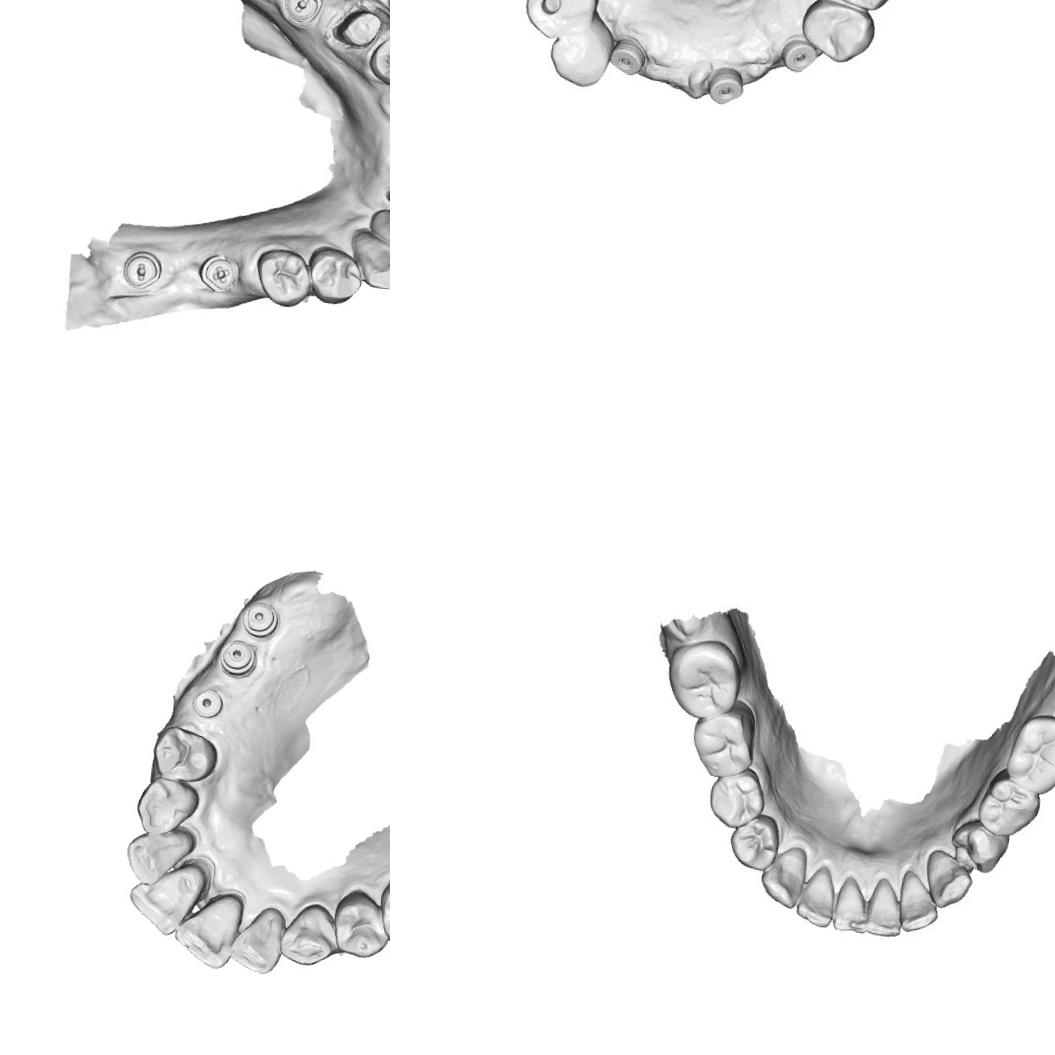canine: (546, 20, 616, 90), (277, 899, 343, 970), (133, 774, 201, 838), (756, 840, 812, 913), (920, 848, 974, 911), (347, 227, 390, 294)
crown: (331, 2, 383, 54)
implant: (216, 638, 259, 682), (704, 66, 746, 109), (607, 37, 648, 80), (239, 599, 280, 640), (780, 40, 819, 80), (190, 686, 224, 720)
implant_minus: (122, 248, 165, 294), (282, 0, 327, 28)
implant_plus: (198, 252, 241, 295)
incisor: (125, 856, 207, 940), (171, 888, 246, 972), (122, 824, 198, 890), (226, 902, 288, 976), (794, 858, 840, 930), (894, 872, 938, 934), (862, 878, 904, 940), (832, 876, 868, 936)
molar: (663, 634, 747, 722), (686, 706, 756, 777), (976, 771, 1041, 838), (1005, 712, 1055, 797)
premolar: (795, 0, 877, 67), (329, 886, 390, 960), (150, 723, 220, 785), (253, 244, 315, 312), (944, 814, 1009, 875), (306, 244, 366, 308), (519, 0, 599, 43), (707, 768, 764, 826), (732, 815, 778, 869), (365, 26, 390, 92), (375, 875, 390, 948)
